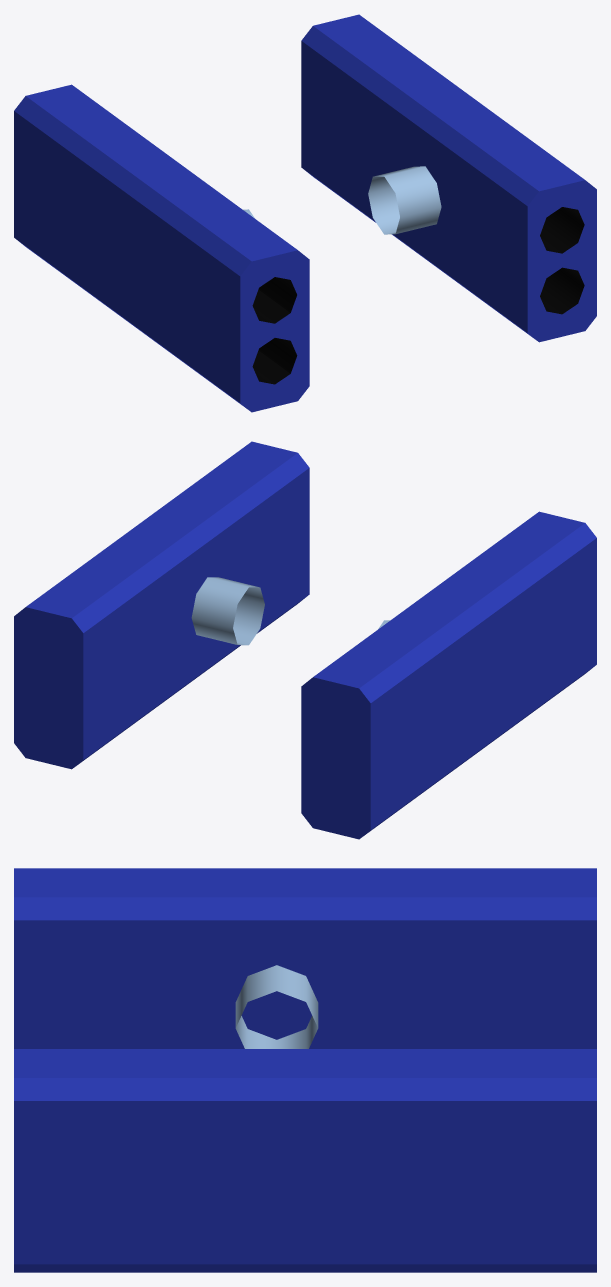
The model's file is Turret_Missile.FBX.
The picture shows the model from 3 angles, top to bottom: view 1: azimuth 30°, elevation 25°; view 2: azimuth 150°, elevation 25°; view 3: azimuth 270°, elevation 25°; orthographic projection. The views are drawn at different scales.
Visible parts, largest first — view 1: Missile; view 2: Missile; view 3: Missile.
Boxes of the visible parts, x1=… form: Missile: x1=14, y1=14, x2=596, y2=412; Missile: x1=14, y1=441, x2=596, y2=839; Missile: x1=14, y1=868, x2=596, y2=1272.
Bounding box in the file's own units: 93.11 × 102 × 37.66.
